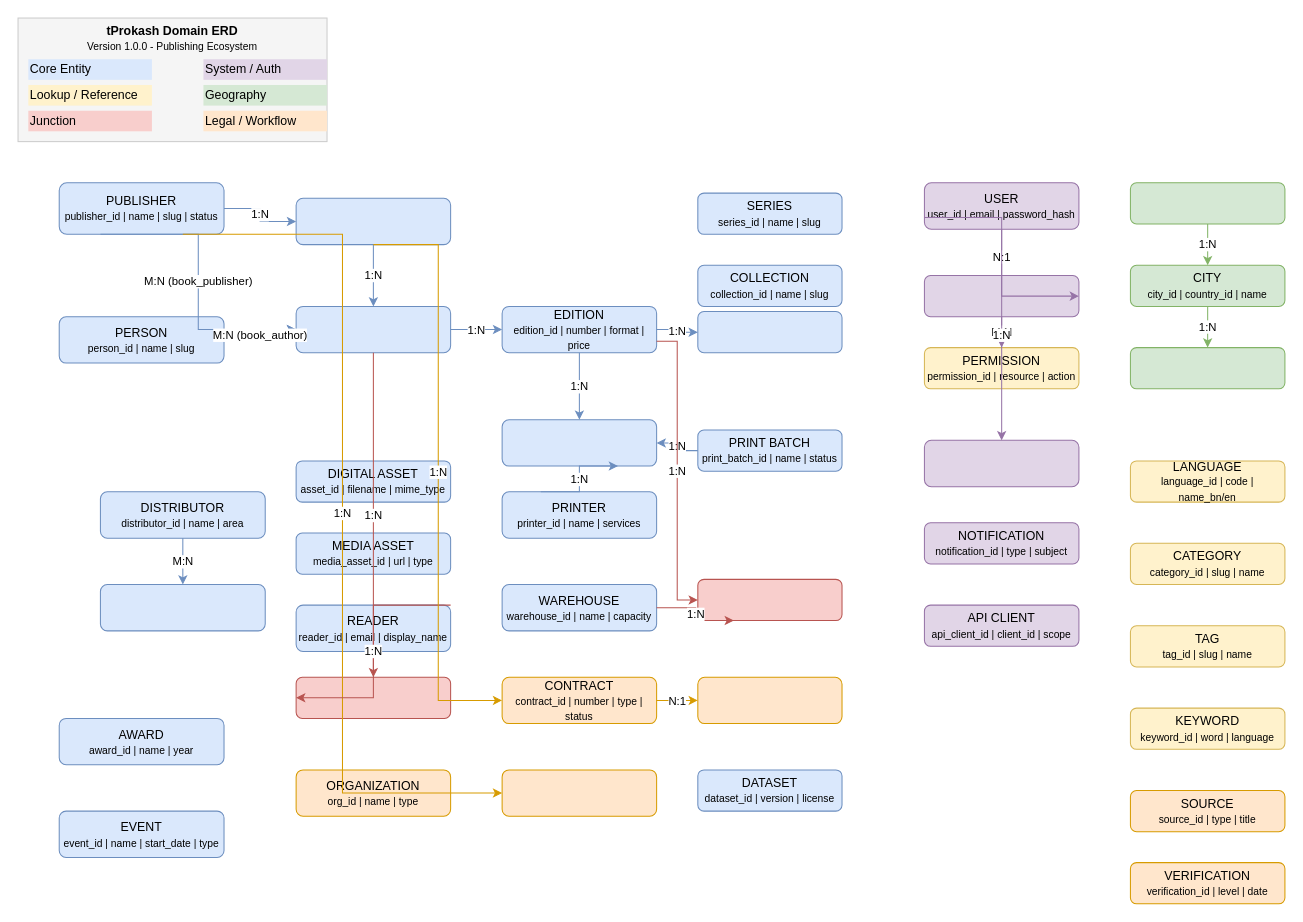
This 1303x922 diagram has some shape labels left out. Here are the shapes that lost their labels. From the top down, the box of each, then its label:
(295, 197, 451, 245): IMPRINT imprint_id | name | slug
(1129, 182, 1285, 224): COUNTRY country_id | code | name
(923, 274, 1079, 317): ROLE role_id | name | description
(295, 305, 451, 353): BOOK book_id | title | slug | year
(697, 311, 842, 353): ISBN isbn_id | code | format
(1129, 347, 1285, 389): ADDRESS address_id | line_1 | postal_code
(501, 419, 657, 466): PRINTING printing_id | qty | status | cost
(923, 439, 1079, 487): AUDIT LOG audit_log_id | action | entity | old/new
(99, 583, 265, 631): BOOKSTORE bookstore_id | name | type
(697, 578, 842, 621): INVENTORY inventory_id | qty_on_hand | threshold
(295, 676, 451, 718): REVIEW review_id | rating | body
(697, 676, 842, 724): LICENSE license_id | type | rights | territory
(501, 769, 657, 816): SUBMISSION submission_id | title | status
